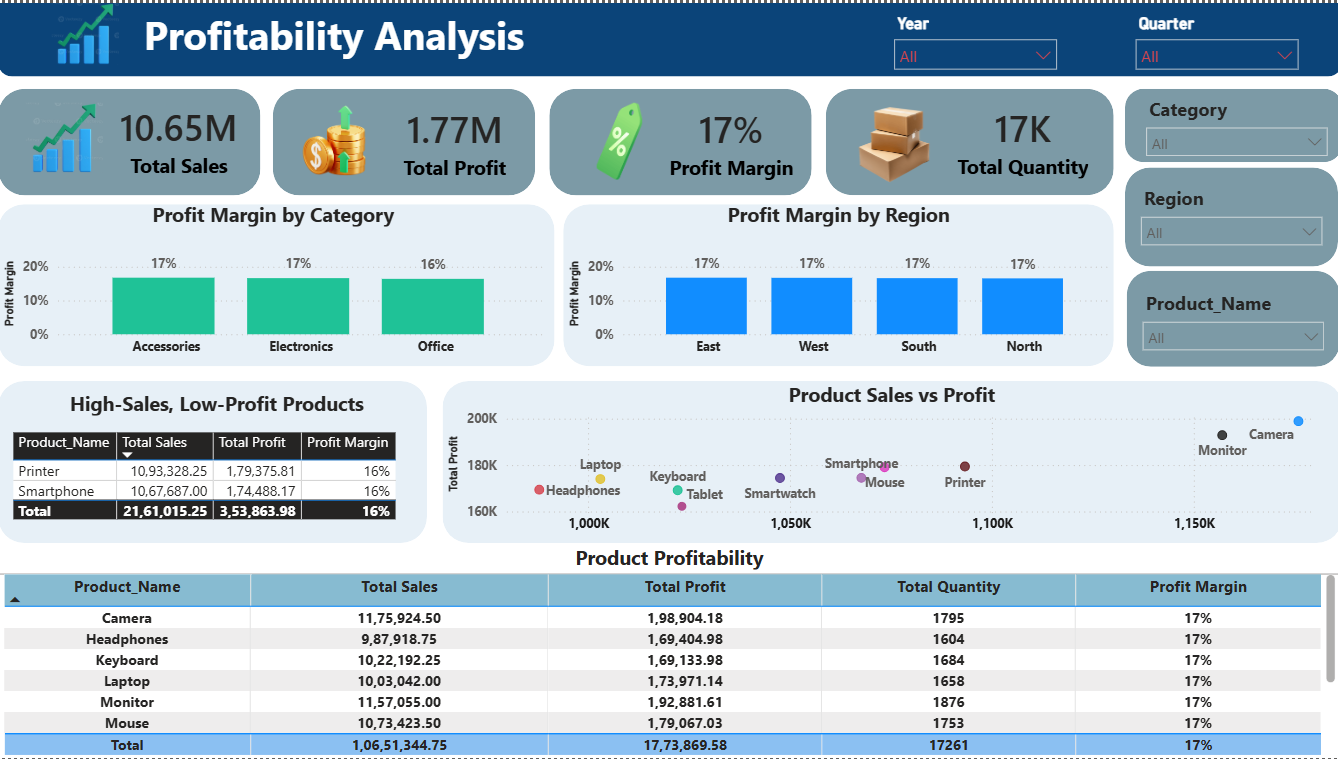

The dashboard page shown, as its layout file describes it:
{"tool":"powerbi","page":{"name":"Profitability Analysis","canvas":[1280,720],"ordinal":4},"visuals":[{"type":"shape","box":[422.9,360,857.1,154.3],"z":0},{"type":"scatterChart","title":"Product Sales vs Profit","fields":{"X":["data_clean.Total Sales"],"Y":["data_clean.Total Profit"],"Category":["data_clean.Product_Name"]},"box":[422.9,360,855.7,154.3],"z":1000},{"type":"shape","box":[0,360,408.6,154.3],"z":2000},{"type":"shape","box":[538.6,191.4,524.3,154.3],"z":3000},{"type":"shape","box":[0,191.4,530,154.3],"z":4000},{"type":"shape","box":[0,0,1280,70],"z":5000},{"type":"clusteredColumnChart","fields":{"Category":["data_clean.Category"],"Y":["data_clean.Profit Margin"]},"box":[0,188.6,524.3,157.1],"z":6000},{"type":"clusteredColumnChart","fields":{"Category":["data_clean.Region"],"Y":["data_clean.Profit Margin"]},"box":[538.6,188.6,524.3,157.1],"z":7000},{"type":"tableEx","title":"High-Sales, Low-Profit Products","fields":{"Values":["data_clean.Product_Name","data_clean.Total Sales","data_clean.Total Profit","data_clean.Profit Margin"]},"box":[8.6,368.6,400,145.7],"z":8000},{"type":"tableEx","title":"Product Profitability","fields":{"Values":["data_clean.Product_Name","data_clean.Total Sales","data_clean.Total Profit","data_clean.Total Quantity","data_clean.Profit Margin"]},"box":[0,514.3,1278.6,205.7],"z":9000},{"type":"textbox","box":[0,0,524.3,91.4],"z":10000},{"type":"image","box":[28.6,0,110,58.6],"z":11000},{"type":"slicer","fields":{"Values":["data_clean.Order_date.Variation.Date Hierarchy.Year"]},"box":[842.9,4.3,175.2,61.9],"z":12000},{"type":"slicer","fields":{"Values":["data_clean.Order_date.Variation.Date Hierarchy.Quarter"]},"box":[1072.9,4.3,175.2,61.9],"z":13000},{"type":"shape","box":[0,81.4,250,101.7],"z":14000},{"type":"shape","box":[261.4,81.4,250,101.7],"z":15000},{"type":"shape","box":[524.3,81.4,250,101.7],"z":16000},{"type":"shape","box":[788.6,81.4,274.3,101.4],"z":17000},{"type":"cardVisual","fields":{"Data":["data_clean.Total Sales"]},"box":[86.7,80,171.7,101.7],"z":18000},{"type":"image","box":[8.3,95,110,66.7],"z":19000},{"type":"cardVisual","fields":{"Data":["data_clean.Total Profit"]},"box":[344.3,81.4,180,101.7],"z":20000},{"type":"image","box":[287.1,94.3,73.3,73.3],"z":21000},{"type":"cardVisual","fields":{"Data":["data_clean.Profit Margin"]},"box":[608.6,75.7,180,115],"z":22000},{"type":"image","box":[524.3,95.7,133.3,73.3],"z":23000},{"type":"cardVisual","fields":{"Data":["data_clean.Total Quantity"]},"box":[880,75.7,192.9,112.9],"z":24000},{"type":"image","box":[774.3,91.4,155,83.3],"z":25000},{"type":"shape","box":[1072.9,81.4,207.1,70],"z":26000},{"type":"shape","box":[1075.7,254.3,202.9,91.4],"z":27000},{"type":"shape","box":[1072.9,157.1,202.9,94.3],"z":28000},{"type":"slicer","fields":{"Values":["data_clean.Category"]},"box":[1082.9,82.9,192.9,67.1],"z":29000},{"type":"slicer","fields":{"Values":["data_clean.Region"]},"box":[1078.6,168.6,192.9,81.4],"z":30000},{"type":"slicer","fields":{"Values":["data_clean.Product_Name"]},"box":[1080,268.6,192.9,77.1],"z":31000}]}

Visuals, with their boxes in screenshot pixels (x1, y1, x2, y2), scaled from the page's 1280x720 canvas onto the 1338x759 screenshot:
shape: l=442, t=380, r=1337, b=542
"Product Sales vs Profit" scatterChart: l=442, t=380, r=1337, b=542
shape: l=0, t=380, r=427, b=542
shape: l=563, t=202, r=1111, b=364
shape: l=0, t=202, r=554, b=364
shape: l=0, t=0, r=1337, b=74
clusteredColumnChart - data_clean.Category x data_clean.Profit Margin: l=0, t=199, r=548, b=364
clusteredColumnChart - data_clean.Region x data_clean.Profit Margin: l=563, t=199, r=1111, b=364
"High-Sales, Low-Profit Products" tableEx: l=9, t=389, r=427, b=542
"Product Profitability" tableEx: l=0, t=542, r=1337, b=758
textbox: l=0, t=0, r=548, b=96
image: l=30, t=0, r=145, b=62
slicer - data_clean.Order_date.Variation.Date Hierarchy.Year: l=881, t=5, r=1064, b=70
slicer - data_clean.Order_date.Variation.Date Hierarchy.Quarter: l=1122, t=5, r=1305, b=70
shape: l=0, t=86, r=261, b=193
shape: l=273, t=86, r=535, b=193
shape: l=548, t=86, r=809, b=193
shape: l=824, t=86, r=1111, b=193
cardVisual - data_clean.Total Sales: l=91, t=84, r=270, b=192
image: l=9, t=100, r=124, b=170
cardVisual - data_clean.Total Profit: l=360, t=86, r=548, b=193
image: l=300, t=99, r=377, b=177
cardVisual - data_clean.Profit Margin: l=636, t=80, r=824, b=201
image: l=548, t=101, r=687, b=178
cardVisual - data_clean.Total Quantity: l=920, t=80, r=1122, b=199
image: l=809, t=96, r=971, b=184
shape: l=1122, t=86, r=1337, b=160
shape: l=1124, t=268, r=1337, b=364
shape: l=1122, t=166, r=1334, b=265
slicer - data_clean.Category: l=1132, t=87, r=1334, b=158
slicer - data_clean.Region: l=1127, t=178, r=1329, b=264
slicer - data_clean.Product_Name: l=1129, t=283, r=1331, b=364
